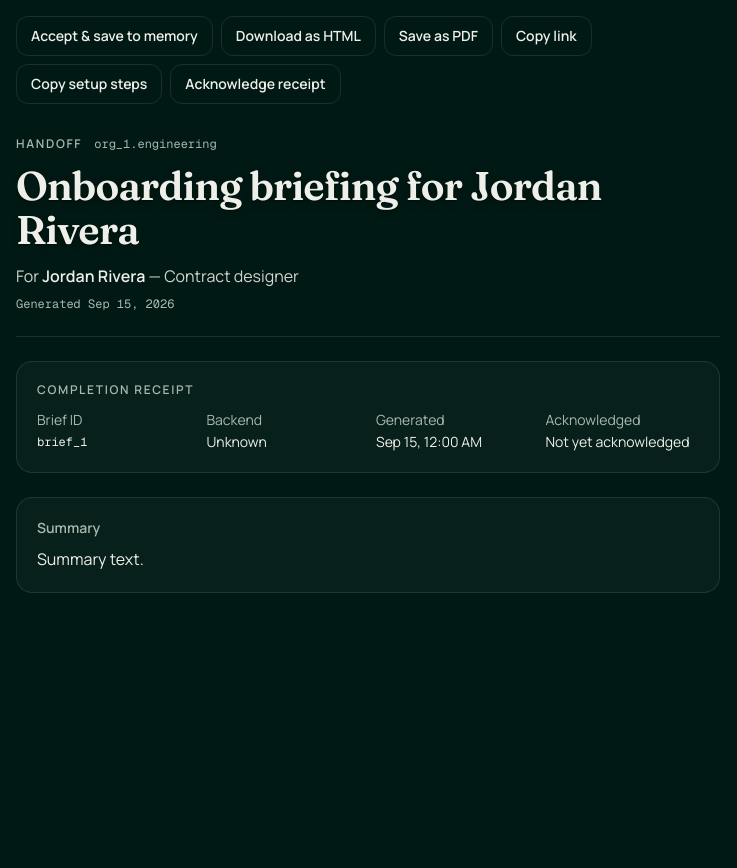
Test: BriefDocument — completion receipt (handoff only) › labels a stale acknowledgement so a copied receipt can't read as a clean handoff
Click the button "Acknowledge receipt". click: (256, 84)
box: [170,64,341,104]
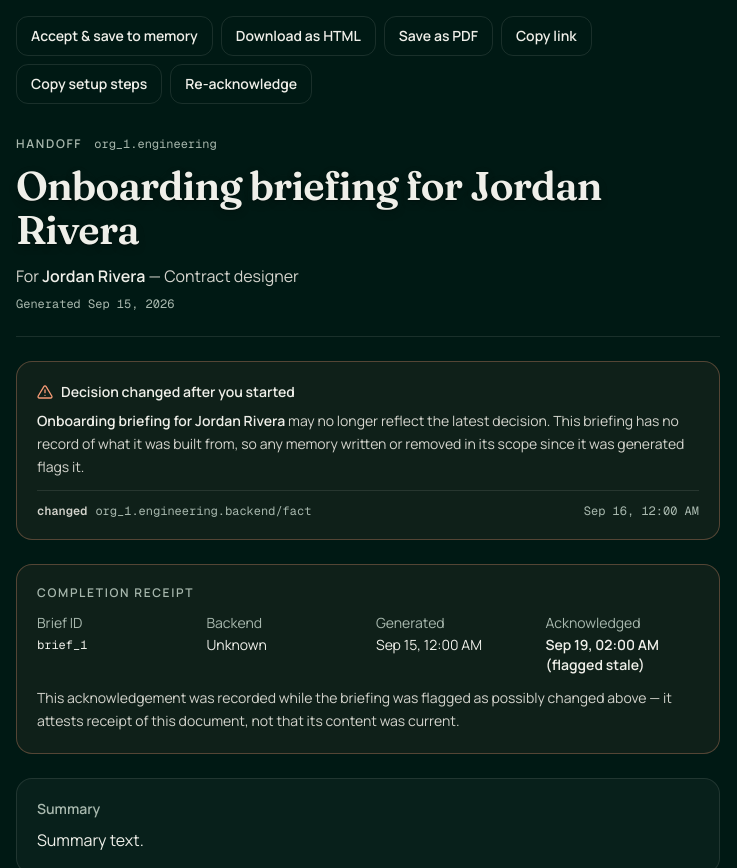
Expected: the text "it attests receipt of this document, not that its content was current" is shown, [37,688,672,730]
